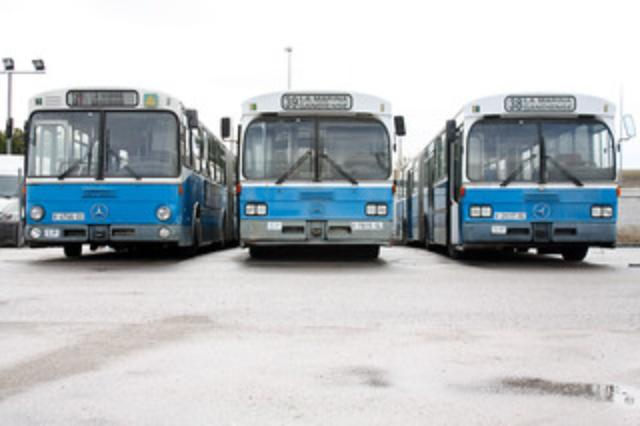bus: (20, 86, 238, 258), (408, 94, 618, 262), (236, 90, 410, 260)
